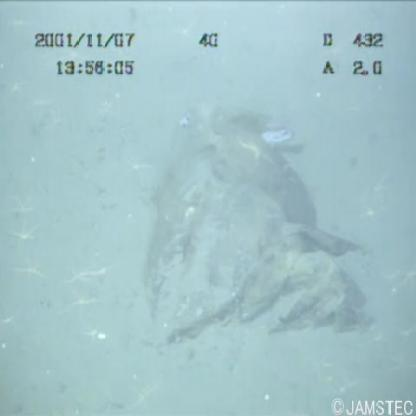Rác: (111, 90, 386, 363)
